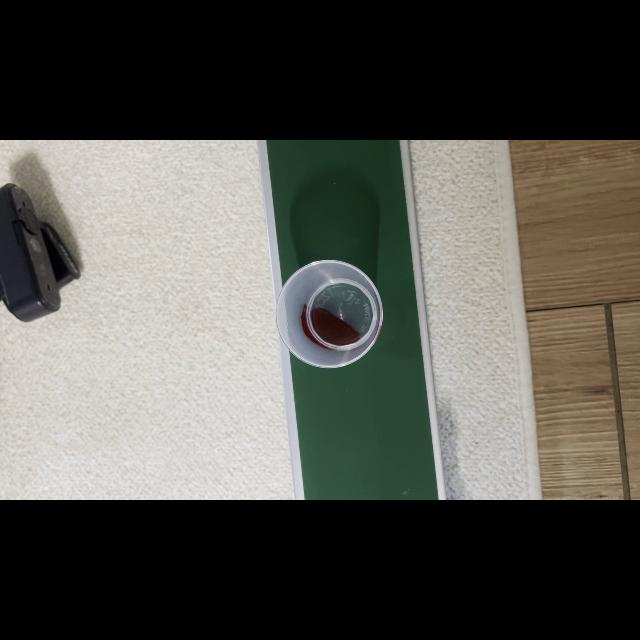dirty: (281, 270, 383, 370)
